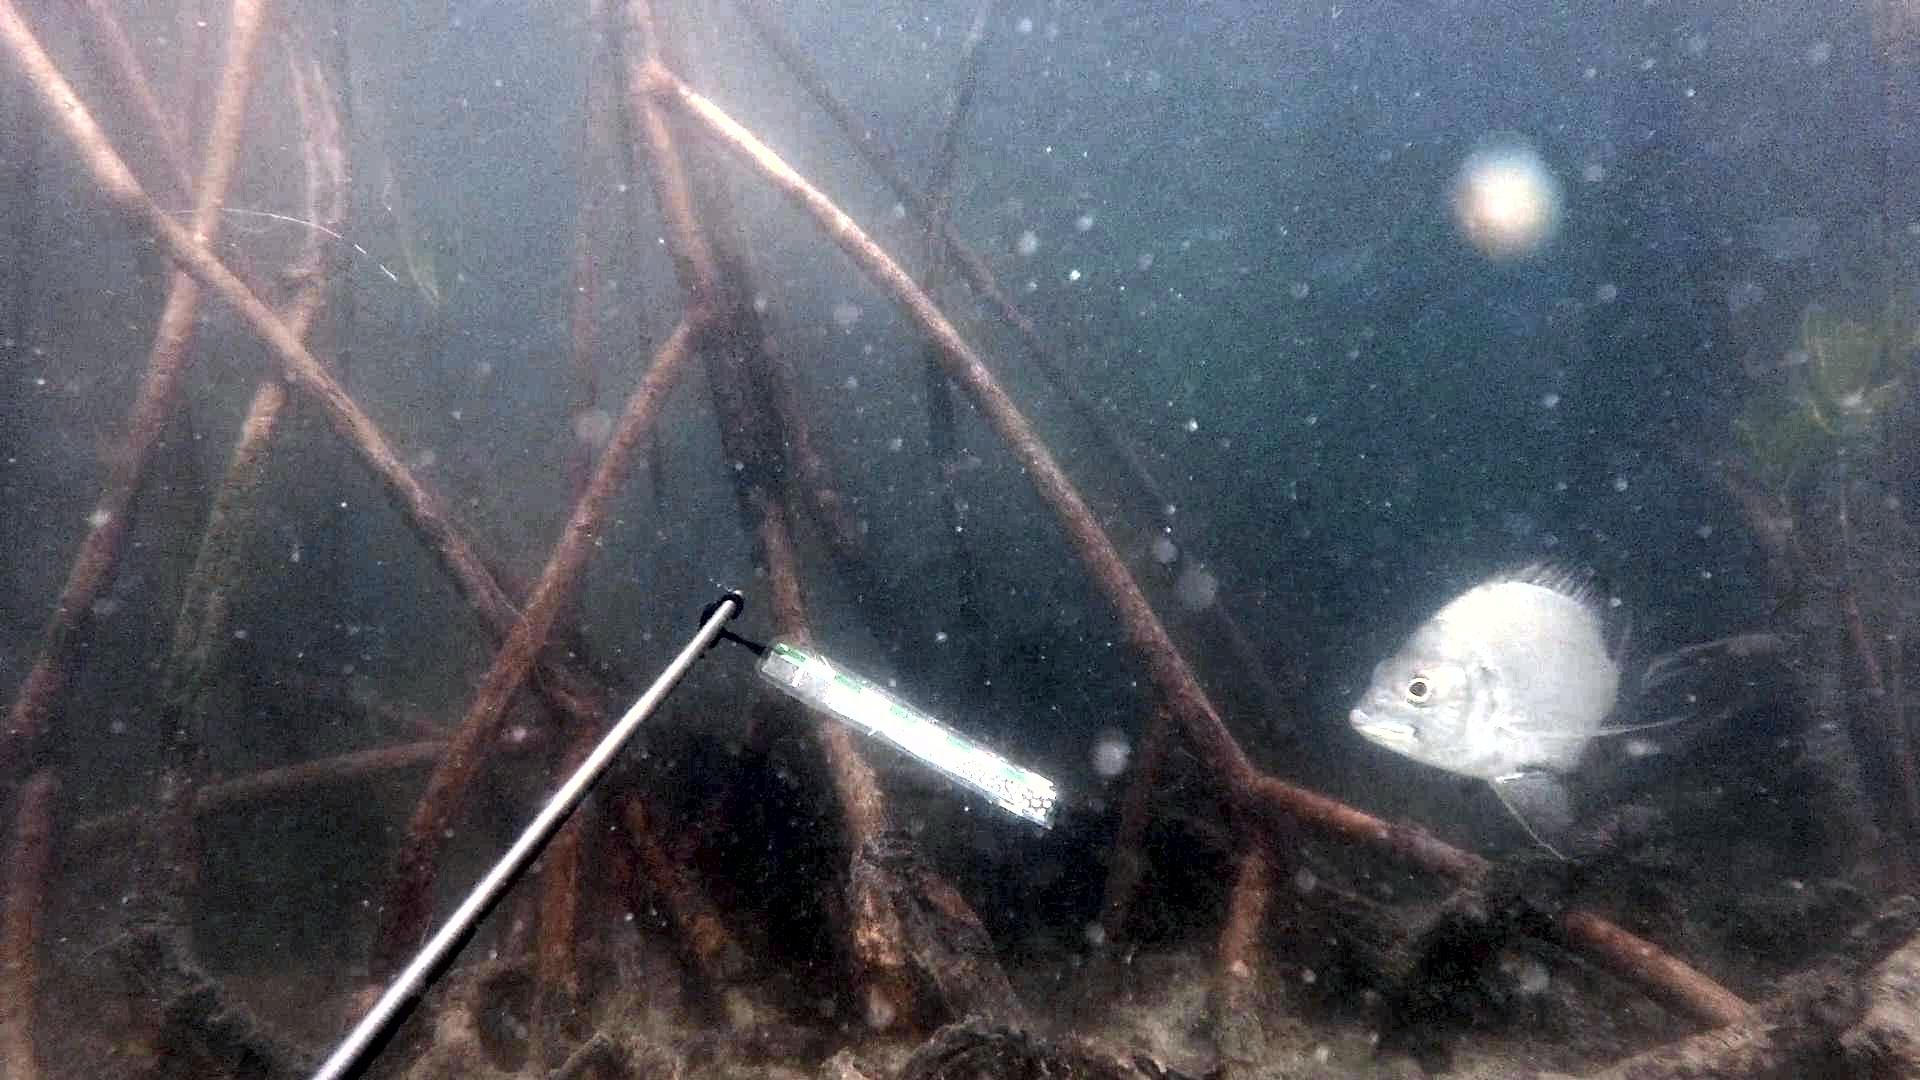acanthopagrus palmaris: (1338, 550, 1675, 873)
